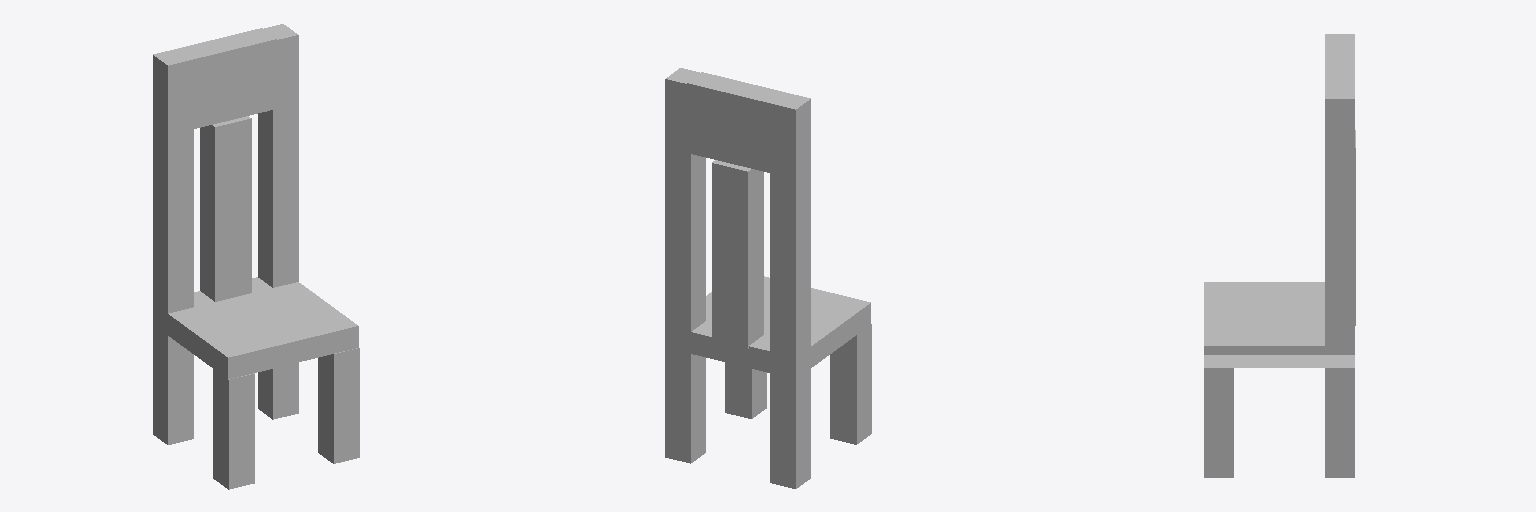
File: chair.obj
The picture shows the model from 3 angles: view 1: azimuth 30°, elevation 25°; view 2: azimuth 150°, elevation 25°; view 3: azimuth 270°, elevation 25°; orthographic projection.
Visible parts, largest first — view 1: Cube_Cube.001; view 2: Cube_Cube.001; view 3: Cube_Cube.001.
Part boxes in pixels (bbox=[...]): Cube_Cube.001: bbox=[153, 24, 359, 489]; Cube_Cube.001: bbox=[665, 68, 871, 488]; Cube_Cube.001: bbox=[1204, 34, 1355, 477].
Bounding box in the file's own units: 2.5 × 6.91 × 2.52.